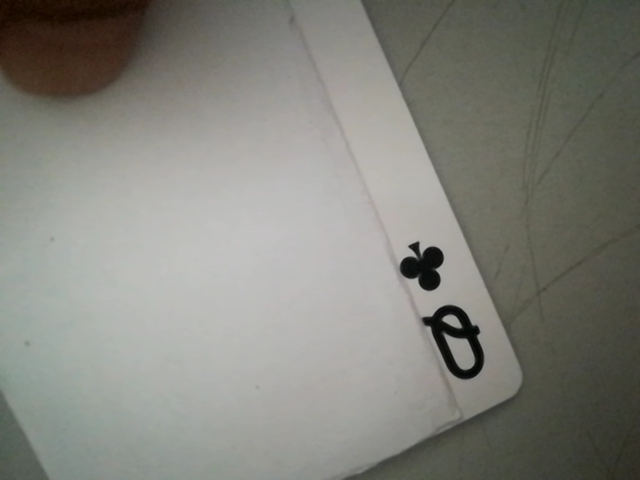mh q: (389, 231, 503, 394)
